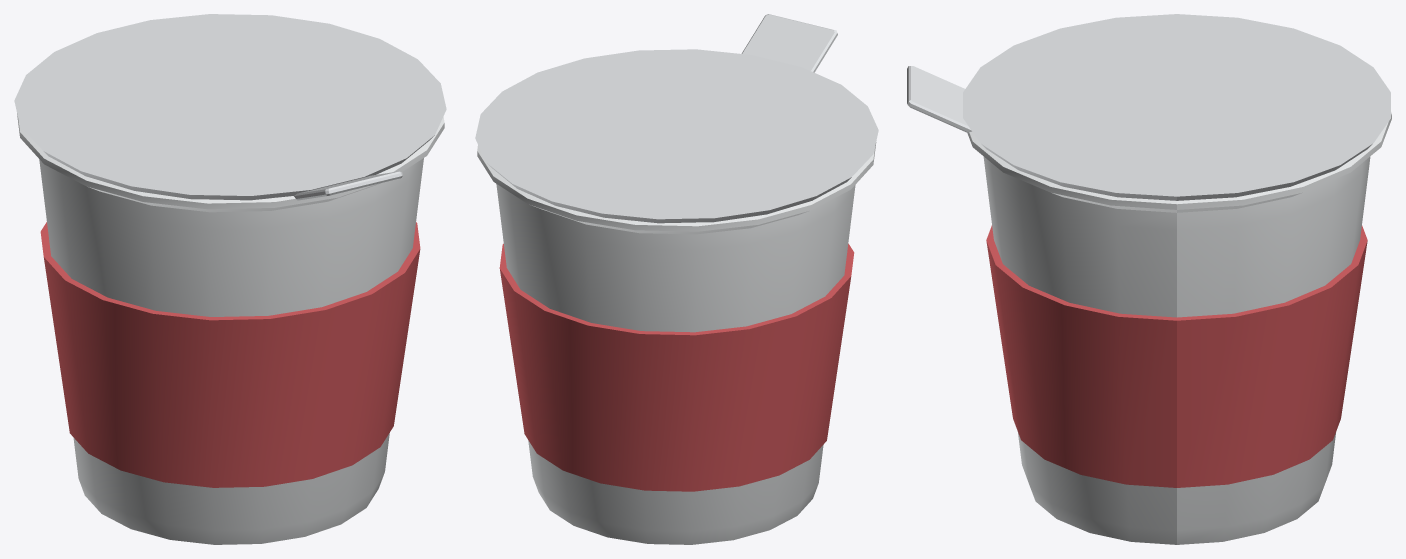
File: fresh-produce-and-groceries-cream-pot-d8c2aaeb__24392.glb
3 views of the same model, side by side, from view 1: azimuth 30°, elevation 25°; view 2: azimuth 150°, elevation 25°; view 3: azimuth 270°, elevation 25° (orthographic). The views are drawn at different scales.
Parts seen in each view (by area): view 1: cream-pot; view 2: cream-pot; view 3: cream-pot.
Part boxes in pixels (x1,y1,x2,y2): cream-pot: [14, 14, 446, 544]; cream-pot: [475, 14, 878, 544]; cream-pot: [907, 14, 1391, 544].
Bounding box in the file's own units: 0.068 × 0.0693 × 0.0763.
